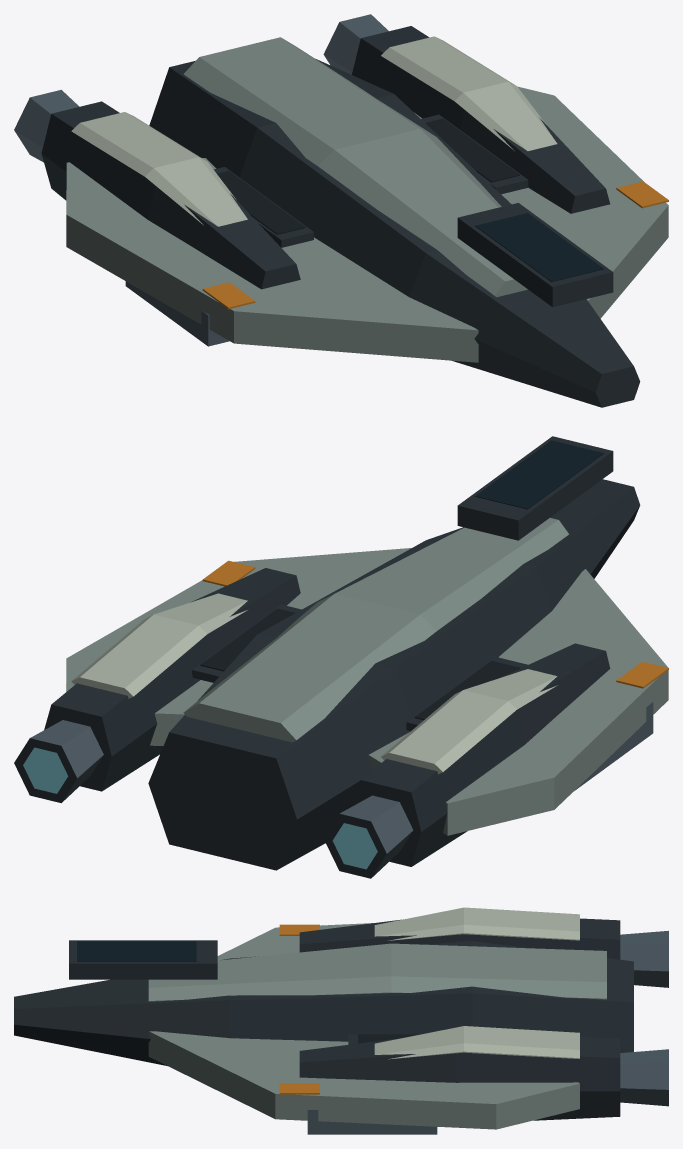
The model's file is fighter-low.glb.
3 views of the same model, one above another, from view 1: azimuth 30°, elevation 25°; view 2: azimuth 150°, elevation 25°; view 3: azimuth 270°, elevation 25° (orthographic). The views are drawn at different scales.
Visible parts, largest first — view 1: AV_fighter-low; view 2: AV_fighter-low; view 3: AV_fighter-low.
Part boxes in pixels (x1,y1,x2,y2): AV_fighter-low: (14,14,668,407); AV_fighter-low: (14,436,668,878); AV_fighter-low: (14,907,668,1134).
Size of the model in its own units: 1.19 by 0.3657 by 1.76.
Materials: 1 (1 with a texture image).
